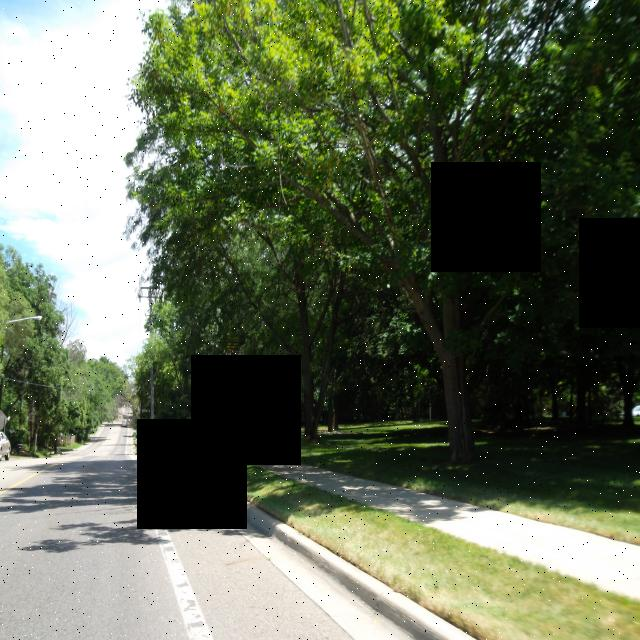regulatory: (190, 354, 213, 389), (190, 356, 212, 388)
